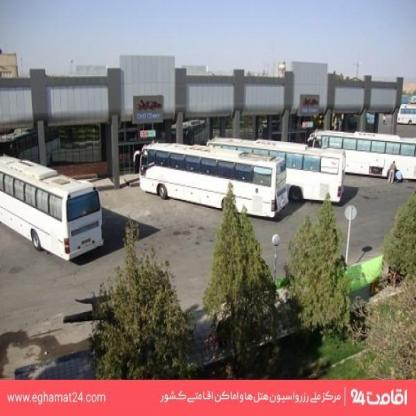Bus: (135, 141, 301, 227), (0, 153, 107, 267), (209, 140, 352, 204), (312, 128, 416, 180), (392, 107, 416, 129)
